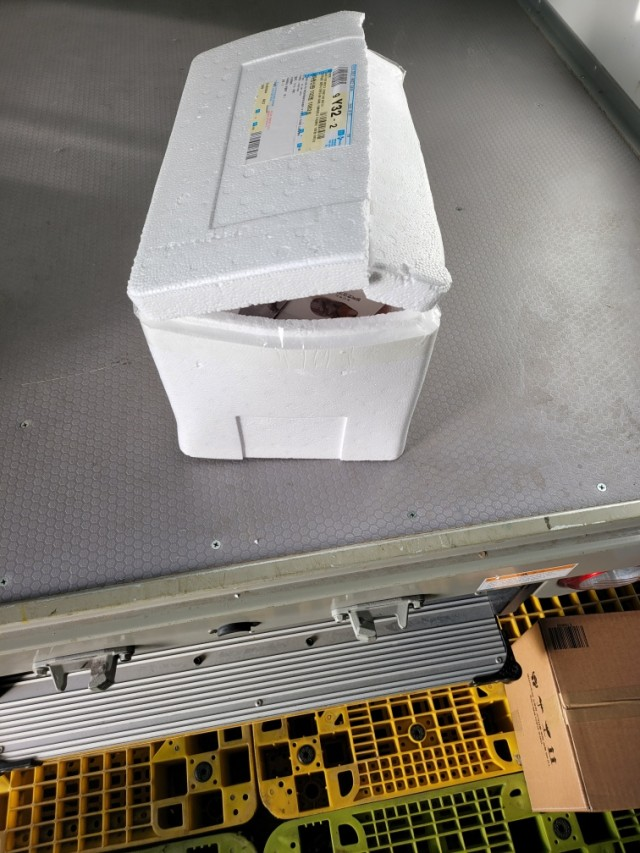damaged package: (165, 28, 452, 328)
